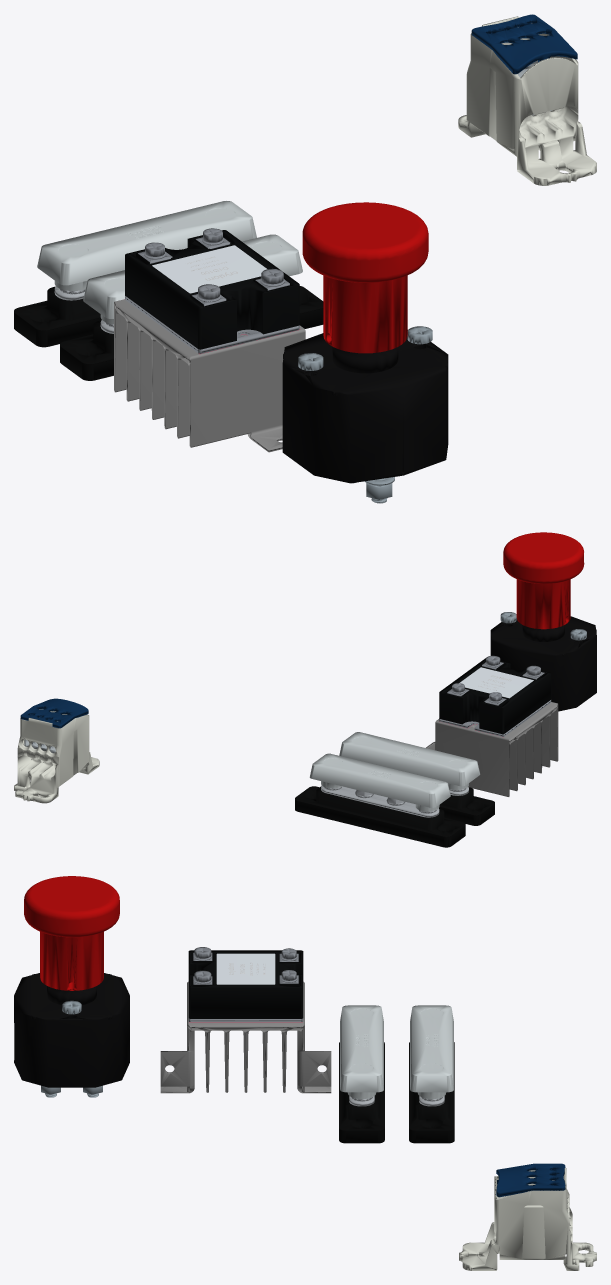
The model's file is drone-v3-puissance.glb.
3 views of the same model, one above another, from view 1: azimuth 30°, elevation 25°; view 2: azimuth 150°, elevation 25°; view 3: azimuth 270°, elevation 25° (orthographic). The views are drawn at different scales.
Visible parts, largest first — view 1: ED80 (×3), HS251_D1D100 (×4), UD80 (×2), D_moins (×2), D_plus (×2); view 2: HS251_D1D100 (×4), ED80 (×2), D_moins (×3), UD80 (×2), D_plus (×2); view 3: ED80 (×3), HS251_D1D100 (×4), UD80 (×2), D_moins (×2), D_plus (×2).
Part boxes in pixels (left/top/right/bottom): ED80 (×3): left=282, top=202, right=448, bottom=503; HS251_D1D100 (×4): left=114, top=228, right=305, bottom=452; UD80 (×2): left=458, top=14, right=596, bottom=185; D_moins (×2): left=14, top=201, right=256, bottom=347; D_plus (×2): left=60, top=234, right=323, bottom=380; HS251_D1D100 (×4): left=426, top=655, right=558, bottom=796; ED80 (×2): left=490, top=532, right=596, bottom=711; D_moins (×3): left=295, top=753, right=465, bottom=847; UD80 (×2): left=14, top=698, right=99, bottom=803; D_plus (×2): left=339, top=732, right=494, bottom=825; ED80 (×3): left=14, top=876, right=129, bottom=1097; HS251_D1D100 (×4): left=160, top=947, right=331, bottom=1093; UD80 (×2): left=459, top=1163, right=596, bottom=1270; D_moins (×2): left=409, top=1005, right=454, bottom=1143; D_plus (×2): left=339, top=1005, right=384, bottom=1143.
Size of the model in its own units: 0.2634 by 0.111 by 0.2915.
